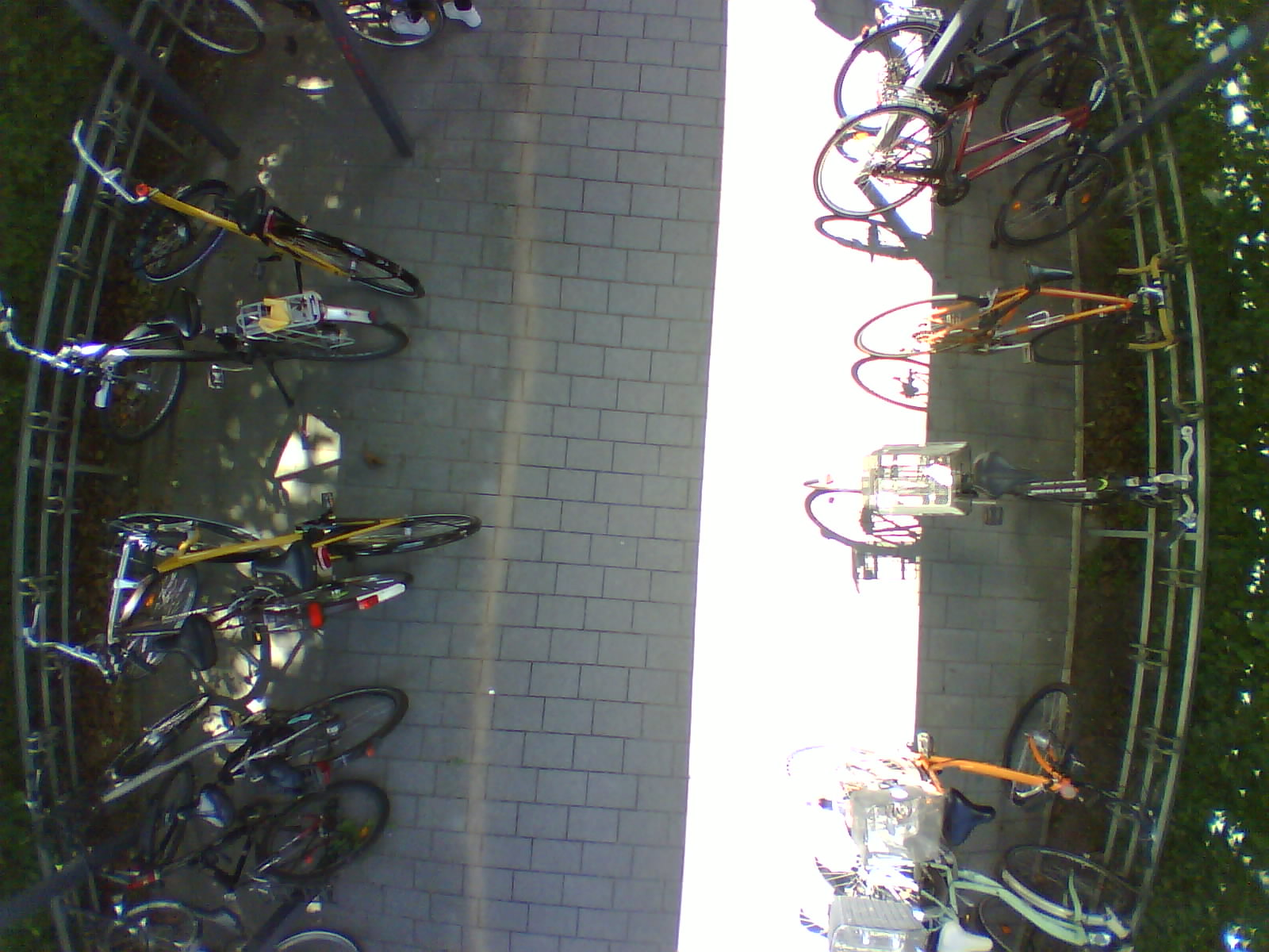bicylce: (770, 682, 1151, 834), (80, 286, 414, 435), (805, 89, 1116, 245), (109, 155, 422, 301), (67, 686, 408, 819), (800, 428, 1193, 541), (88, 789, 396, 925), (752, 854, 1183, 951), (852, 248, 1186, 371), (807, 4, 1128, 128), (65, 574, 407, 680), (88, 500, 486, 591)
saddle: (142, 613, 224, 678), (930, 772, 998, 845), (969, 442, 1040, 505), (242, 538, 322, 593), (135, 284, 207, 337), (211, 177, 273, 238), (163, 783, 236, 832), (950, 44, 1012, 101), (930, 907, 998, 952), (1022, 251, 1080, 300), (189, 904, 244, 936)
